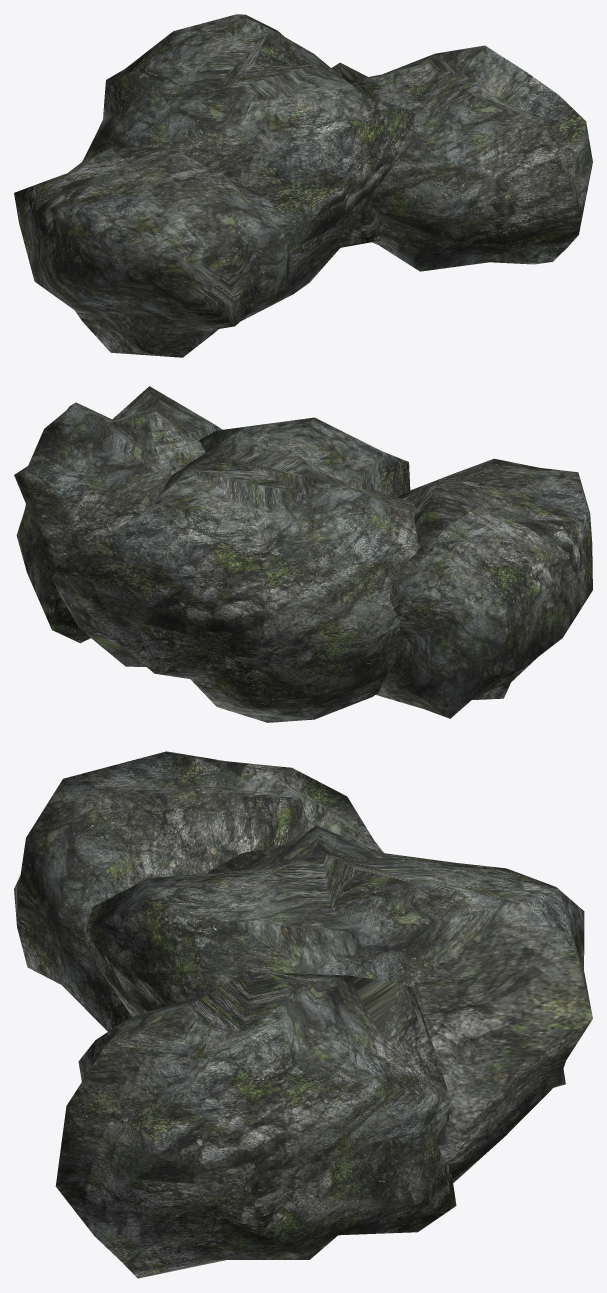
File: Rock_4.fbx
3 renders of one model, top to bottom at view 1: azimuth 30°, elevation 25°; view 2: azimuth 150°, elevation 25°; view 3: azimuth 270°, elevation 25°, orthographic. The views are drawn at different scales.
Parts seen in each view (by area): view 1: Rock_4; view 2: Rock_4; view 3: Rock_4.
Part boxes in pixels (x1,y1,x2,y2): Rock_4: (14, 14, 592, 357); Rock_4: (14, 386, 592, 722); Rock_4: (14, 751, 592, 1278).
Size of the model in its own units: 284 by 114 by 196.
